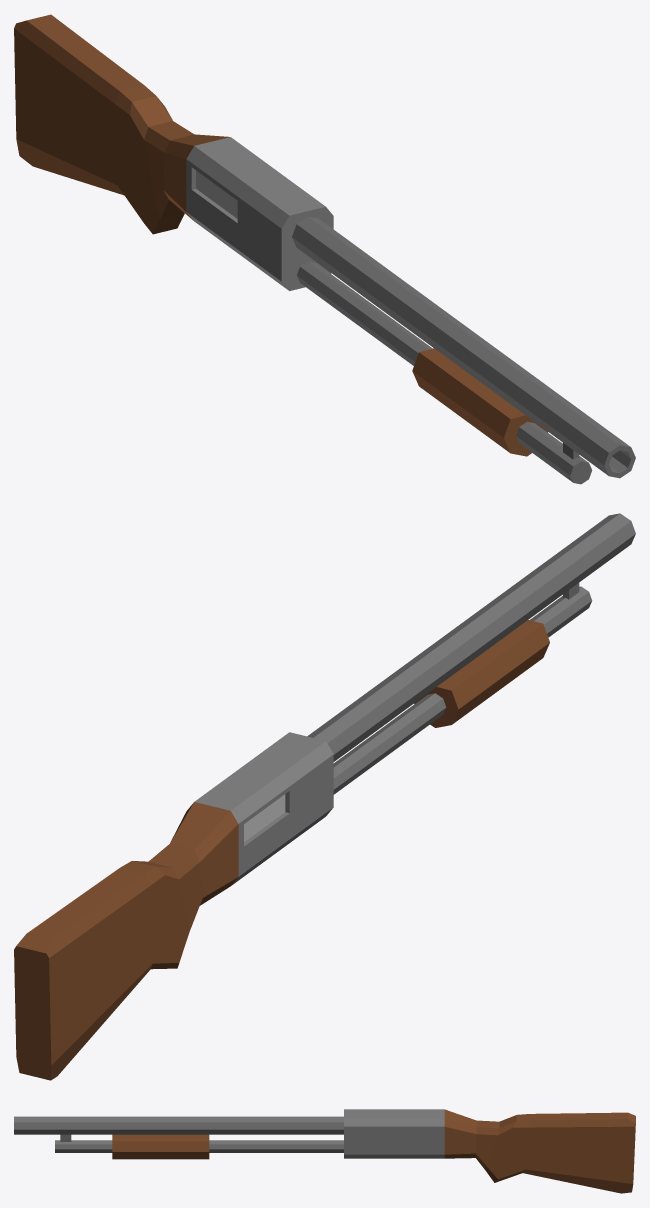
Rendered from Shotgun.glb.
3 renders of one model, top to bottom at view 1: azimuth 30°, elevation 25°; view 2: azimuth 150°, elevation 25°; view 3: azimuth 270°, elevation 25°, orthographic. The views are drawn at different scales.
Parts seen in each view (by area): view 1: StockBody, Barrels, Pump; view 2: StockBody, Barrels, Pump; view 3: StockBody, Barrels, Pump.
Boxes of the visible parts, x1=… form: StockBody: x1=14, y1=14, x2=333, y2=290; Barrels: x1=292, y1=216, x2=635, y2=484; Pump: x1=412, y1=348, x2=547, y2=456; StockBody: x1=14, y1=732, x2=333, y2=1080; Barrels: x1=307, y1=513, x2=635, y2=794; Pump: x1=414, y1=620, x2=549, y2=727; StockBody: x1=344, y1=1109, x2=635, y2=1193; Barrels: x1=14, y1=1116, x2=343, y2=1152; Pump: x1=112, y1=1134, x2=209, y2=1159.
Size of the model in its own units: 3 by 7.96 by 58.75.
